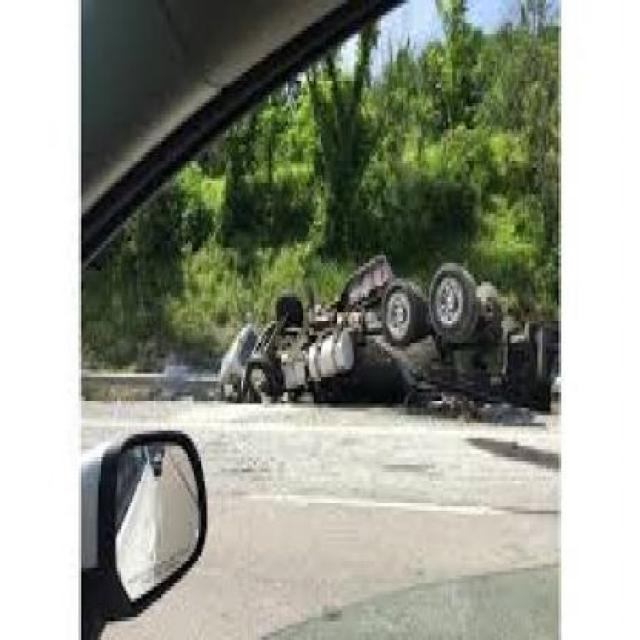accident: (189, 260, 580, 497)
